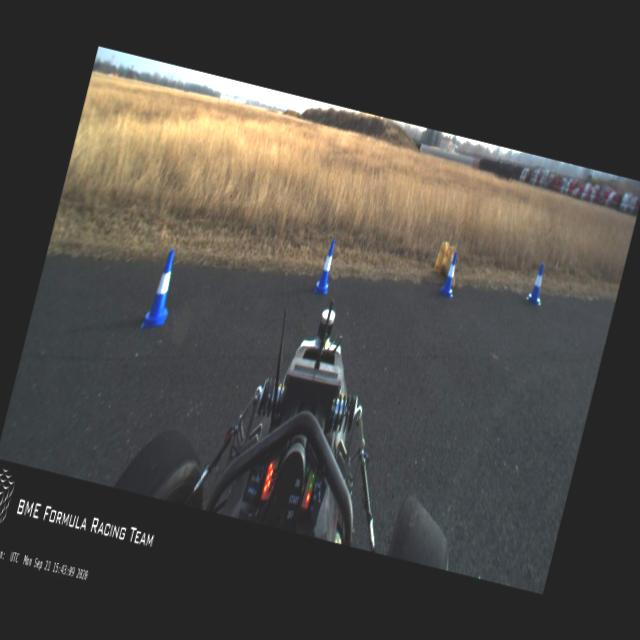blue_cone: (140, 246, 182, 332), (314, 241, 339, 294), (524, 258, 550, 306), (438, 248, 462, 298)
unknown_cone: (437, 245, 464, 290), (433, 240, 448, 272)
